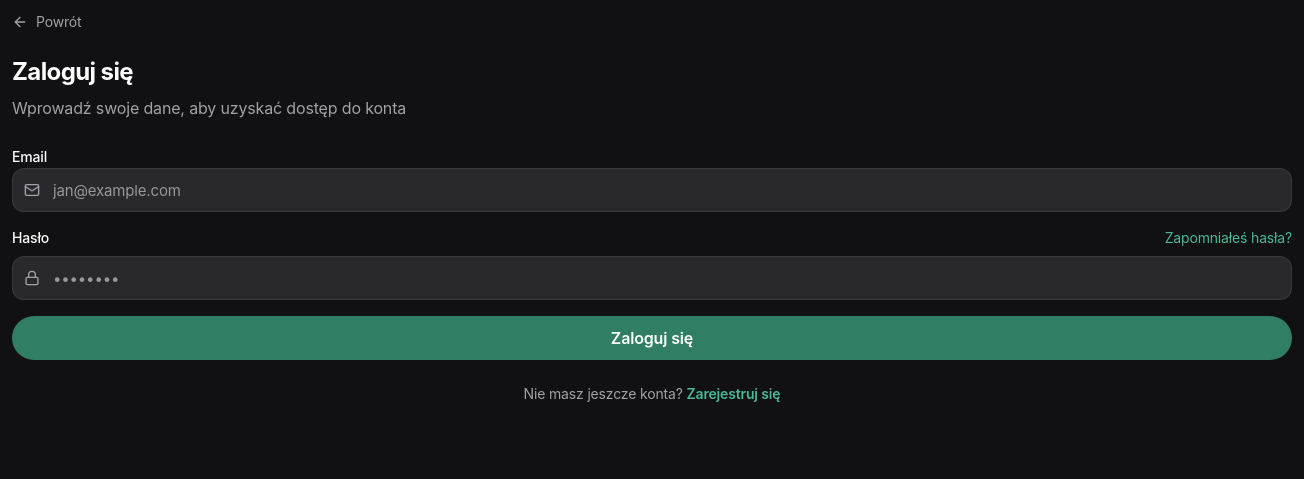
sign-in page › does not reveal whether the account exists
Type "unknown@example.com" into the field labelled "Email" at (652, 190), box [12,168,1292,212]
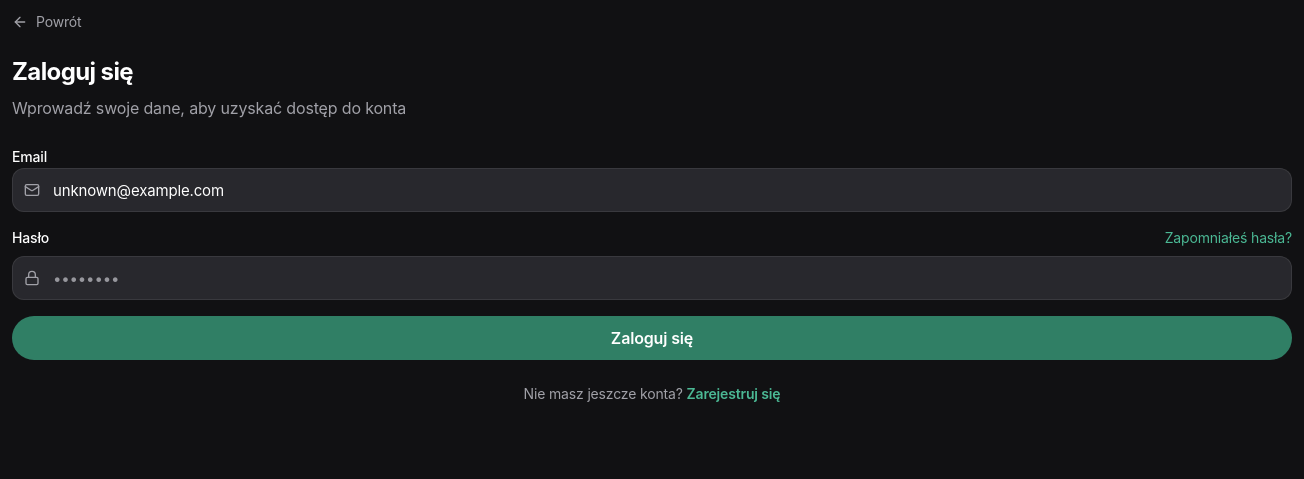
Type "secret-password" into the password field labelled "Hasło" at (652, 278), box [12,256,1292,300]
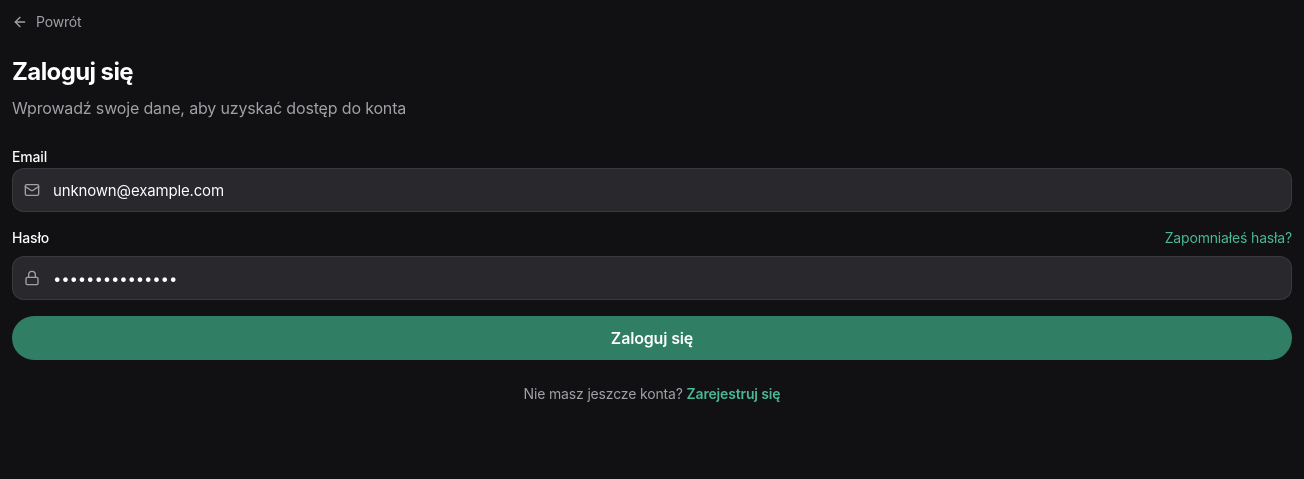
Click the button "Zaloguj się" at (652, 338), box [12,316,1292,360]
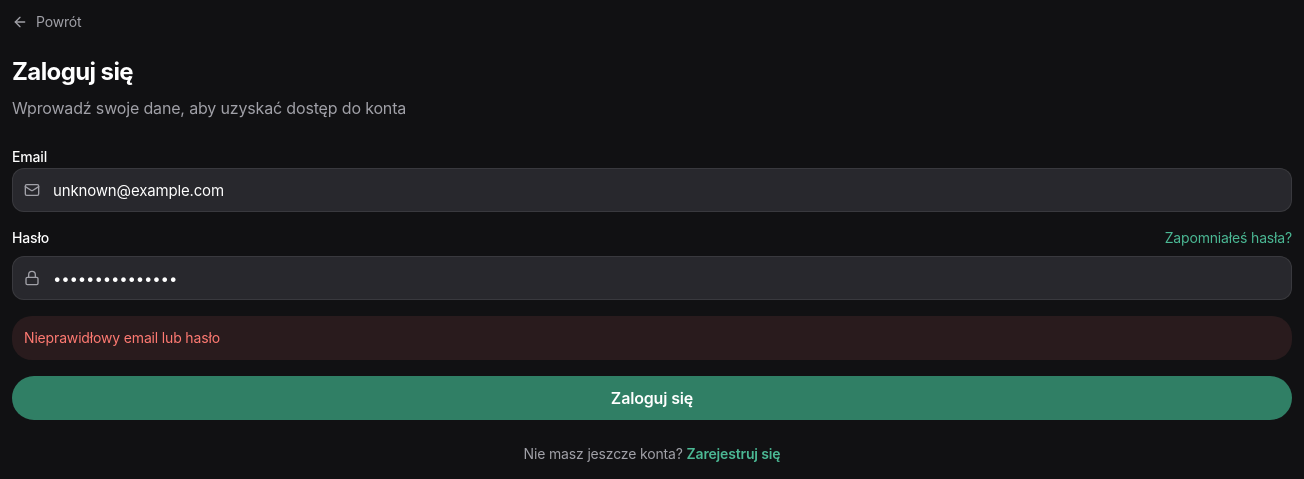
Result: the text "Nieprawidłowy email lub hasło" is shown at [12,316,1292,360]
